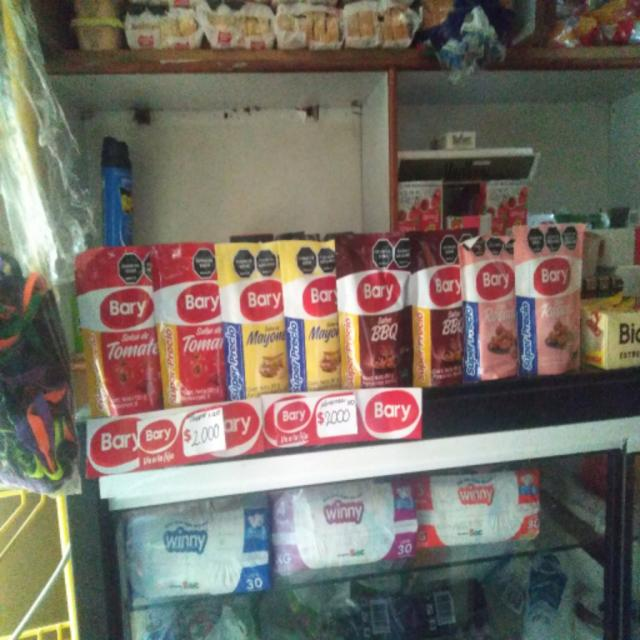BBQ: (341, 234, 421, 388), (412, 233, 474, 383)
Mayonesa: (212, 243, 293, 398), (284, 238, 343, 386)
Precio: (184, 414, 232, 454), (312, 398, 359, 434)
Rosada: (460, 229, 525, 385), (516, 228, 585, 365)
Tomate: (75, 250, 164, 414), (151, 241, 226, 402)
